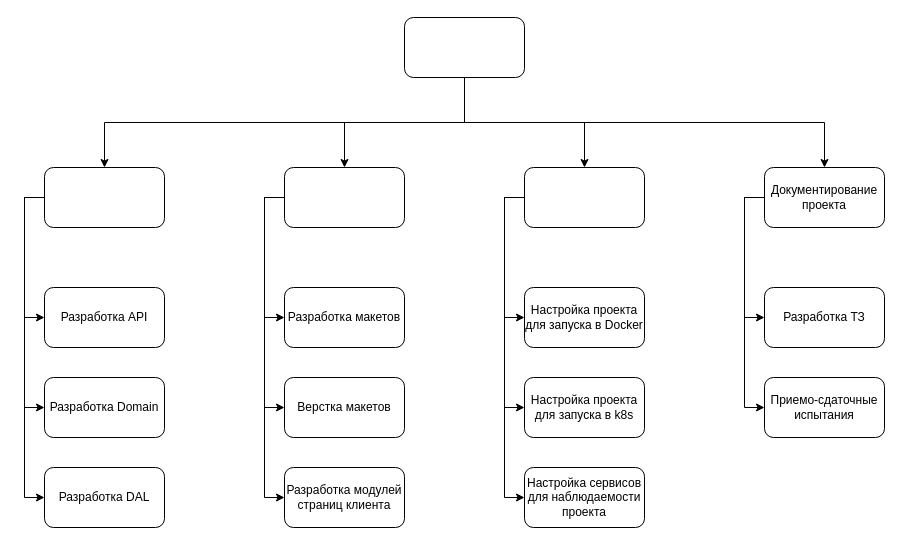
This 902x545 diagram has some shape labels left out. Each missing label, with the centre of its shape:
Настройка инфраструктуры проекта: pixel 584 197
Разработка клиентской части: pixel 344 197
Разработка проекта GuessCode: pixel 464 47
Разработка серверной части: pixel 104 197
